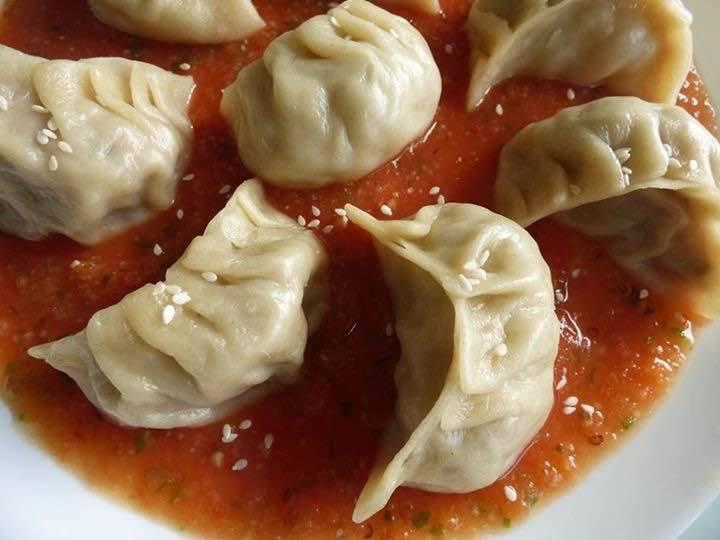momos: (28, 179, 326, 428), (345, 204, 560, 522), (495, 97, 720, 318), (496, 319, 720, 539), (221, 0, 442, 186), (0, 45, 194, 244), (467, 0, 692, 109)
